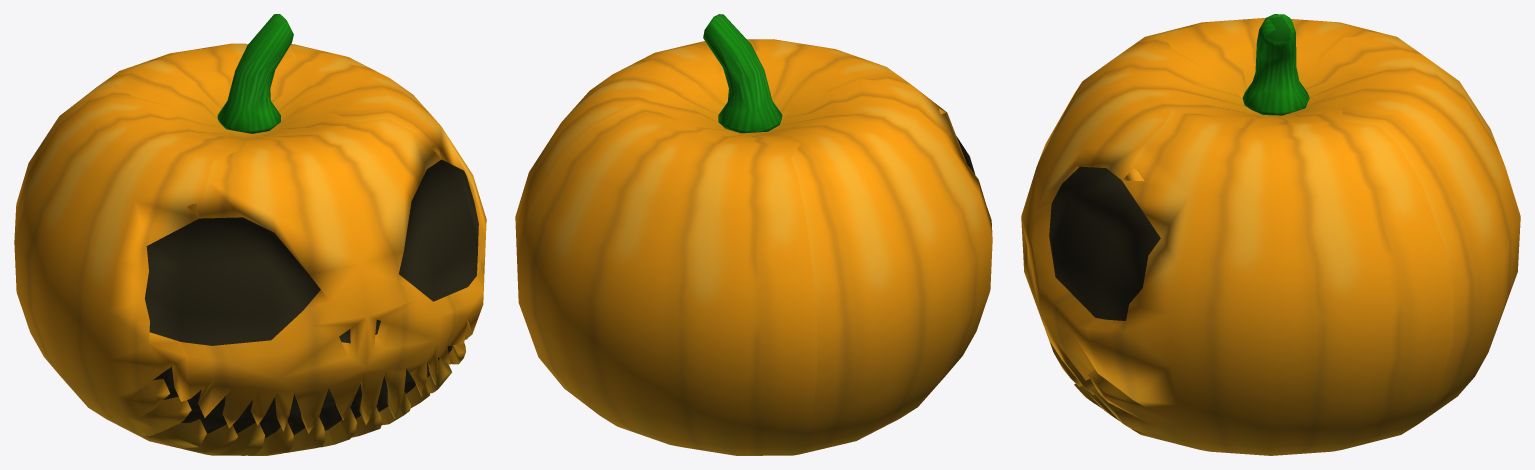
File: jackolantern03-L.fbx
3 views of the same model, side by side, from view 1: azimuth 30°, elevation 25°; view 2: azimuth 150°, elevation 25°; view 3: azimuth 270°, elevation 25° (orthographic). The views are drawn at different scales.
Visible parts, largest first — view 1: Cube; view 2: Cube; view 3: Cube.
Part boxes in pixels (left/top/right/bottom): Cube: left=14, top=14, right=486, bottom=455; Cube: left=515, top=14, right=992, bottom=455; Cube: left=1021, top=14, right=1520, bottom=455.
Bounding box in the file's own units: 1.41 × 1.29 × 1.41.
